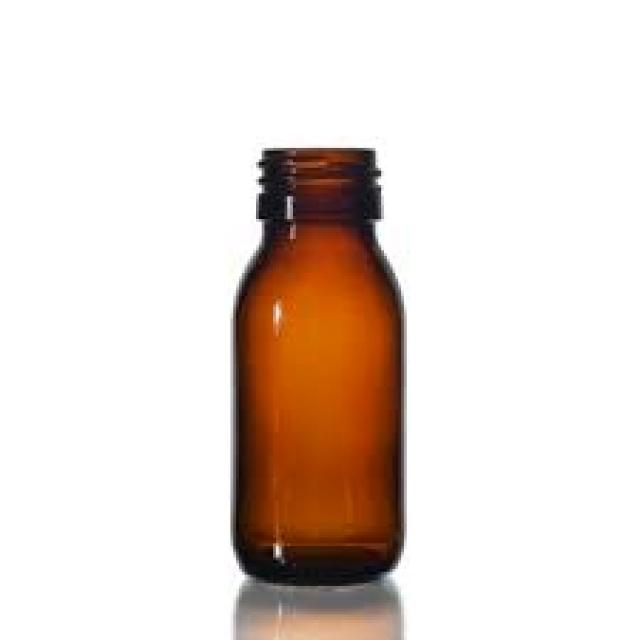Glass: (226, 142, 412, 587)
